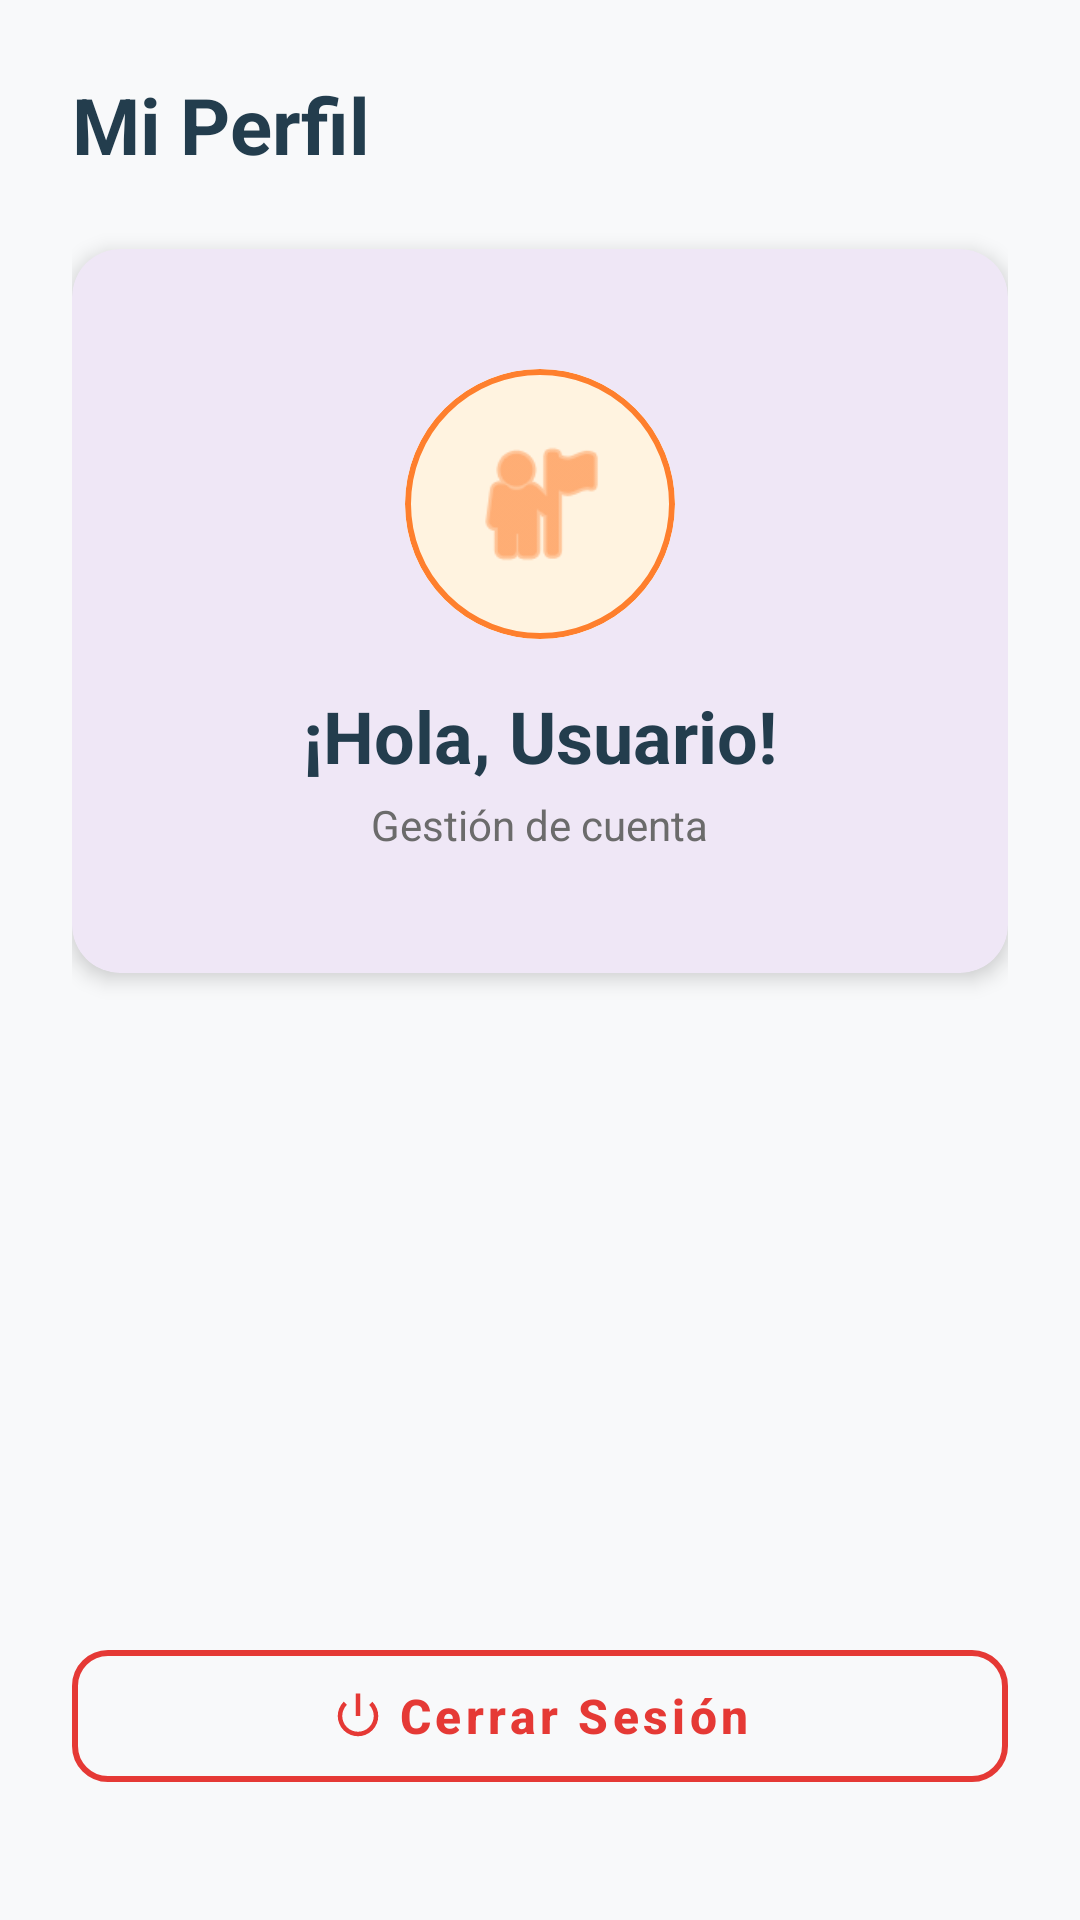

Named icons in this screenshot (1080 × 1920) and their centers, (x=x, y=y):
myplaces: (x=540, y=504)
